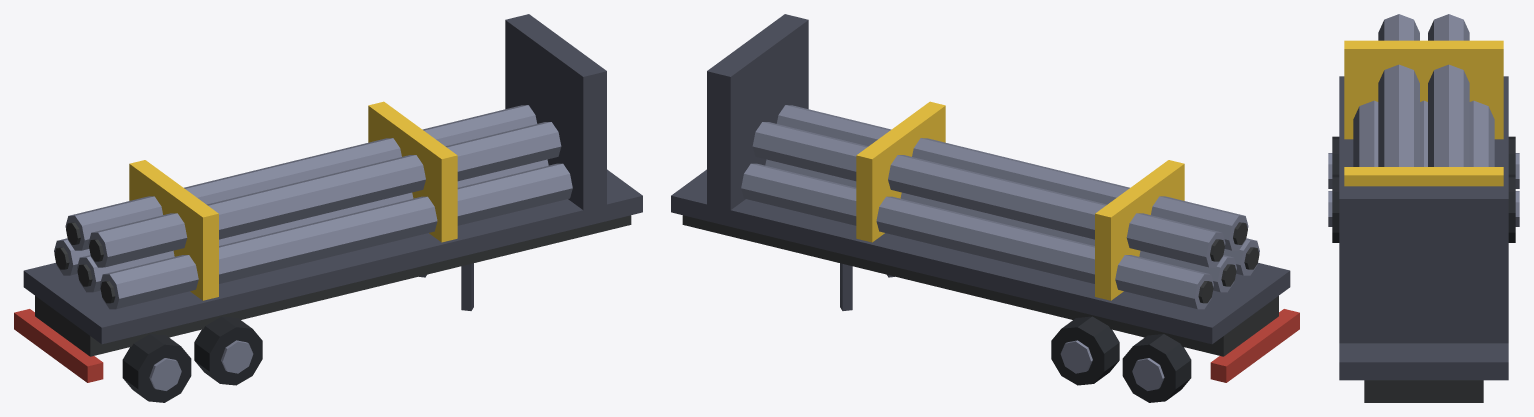
Rendered from semi.trailer-pipes.glb.
3 renders of one model, left to right at view 1: azimuth 30°, elevation 25°; view 2: azimuth 150°, elevation 25°; view 3: azimuth 270°, elevation 25°, orthographic. The views are drawn at different scales.
Parts seen in each view (by area): view 1: model; view 2: model; view 3: model.
Part boxes in pixels (<box>): model: <box>14,14,642,402</box>; model: <box>671,14,1299,402</box>; model: <box>1328,14,1519,402</box>.
Bounding box in the file's own units: 0.695 × 0.265 × 0.192.
Materials: 1 (1 with a texture image).
